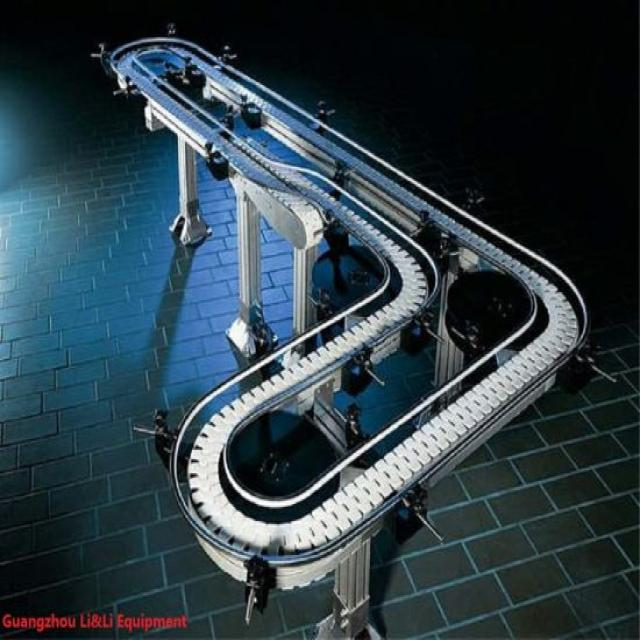conveyor: (57, 19, 597, 603)
